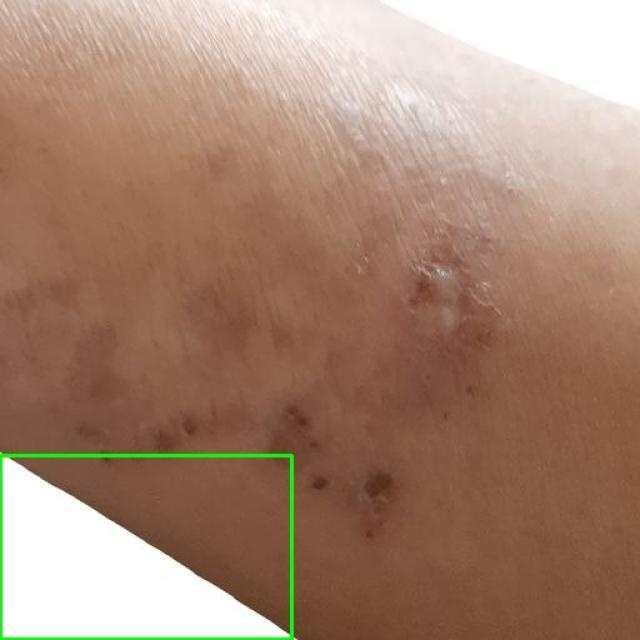Scabies: (0, 455, 291, 639)
